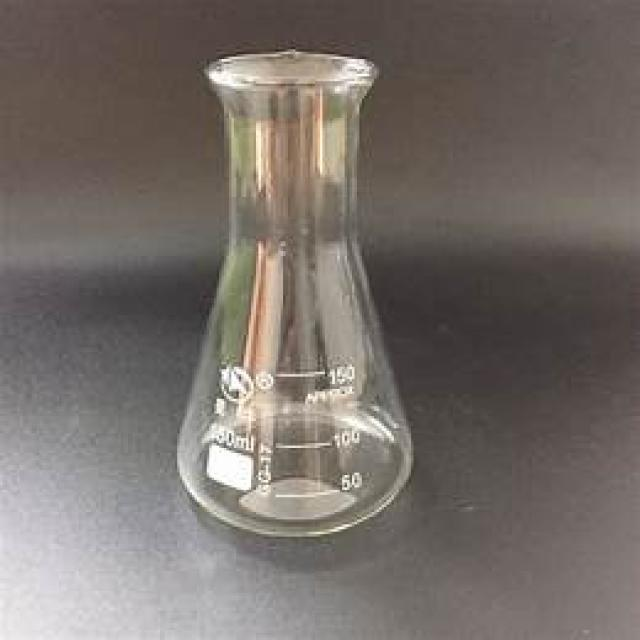Titrarion: (174, 55, 426, 543)
